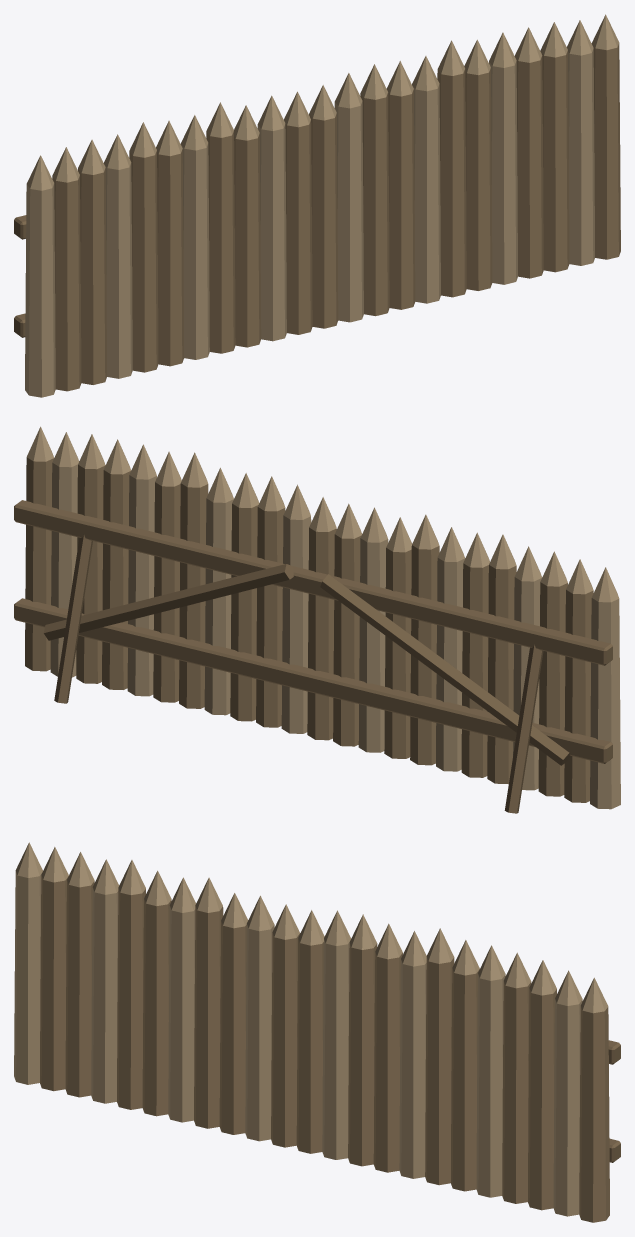
The model's file is timber_palisade.glb.
3 renders of one model, top to bottom at view 1: azimuth 30°, elevation 25°; view 2: azimuth 150°, elevation 25°; view 3: azimuth 330°, elevation 25°, orthographic.
Parts seen in each view (by area): view 1: timber_palisade_oak, timber_palisade_oak_light, timber_palisade_oak_dark; view 2: timber_palisade_oak, timber_palisade_oak_light, timber_palisade_oak_dark; view 3: timber_palisade_oak, timber_palisade_oak_light, timber_palisade_oak_dark.
Boxes of the visible parts, x1,y1,x2,y2 form: timber_palisade_oak: (52,43,620,391); timber_palisade_oak_light: (25,14,619,397); timber_palisade_oak_dark: (14,215,26,337); timber_palisade_oak: (25,457,593,802); timber_palisade_oak_light: (27,426,620,809); timber_palisade_oak_dark: (14,500,612,813); timber_palisade_oak: (40,875,609,1222); timber_palisade_oak_light: (14,842,608,1216); timber_palisade_oak_dark: (608,1040,620,1162).
Bounding box in the file's own units: 6 × 2.42 × 0.8281.
